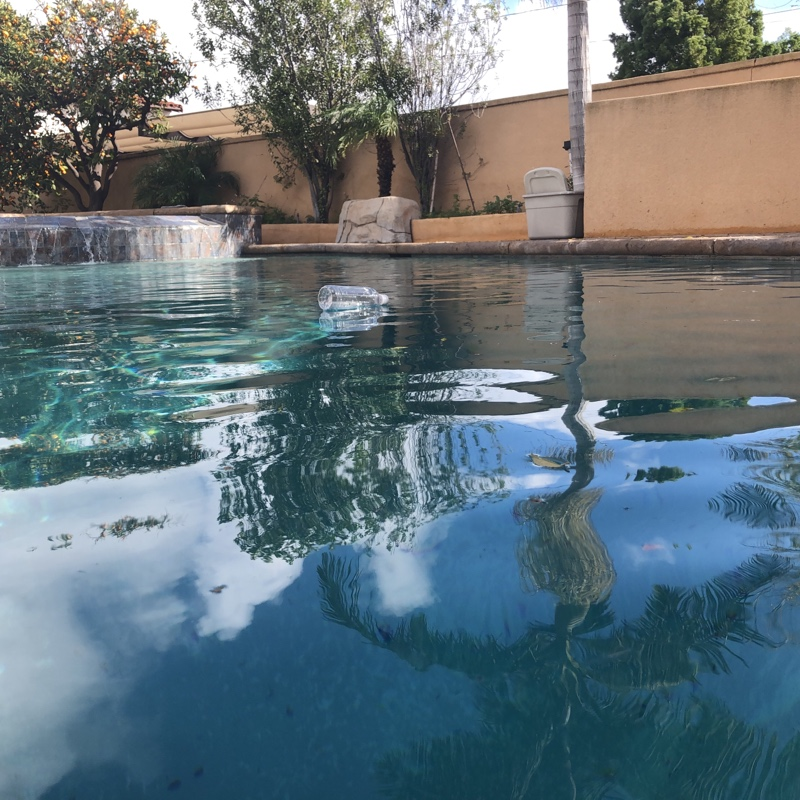Plastic Bottle: (318, 283, 389, 312)
